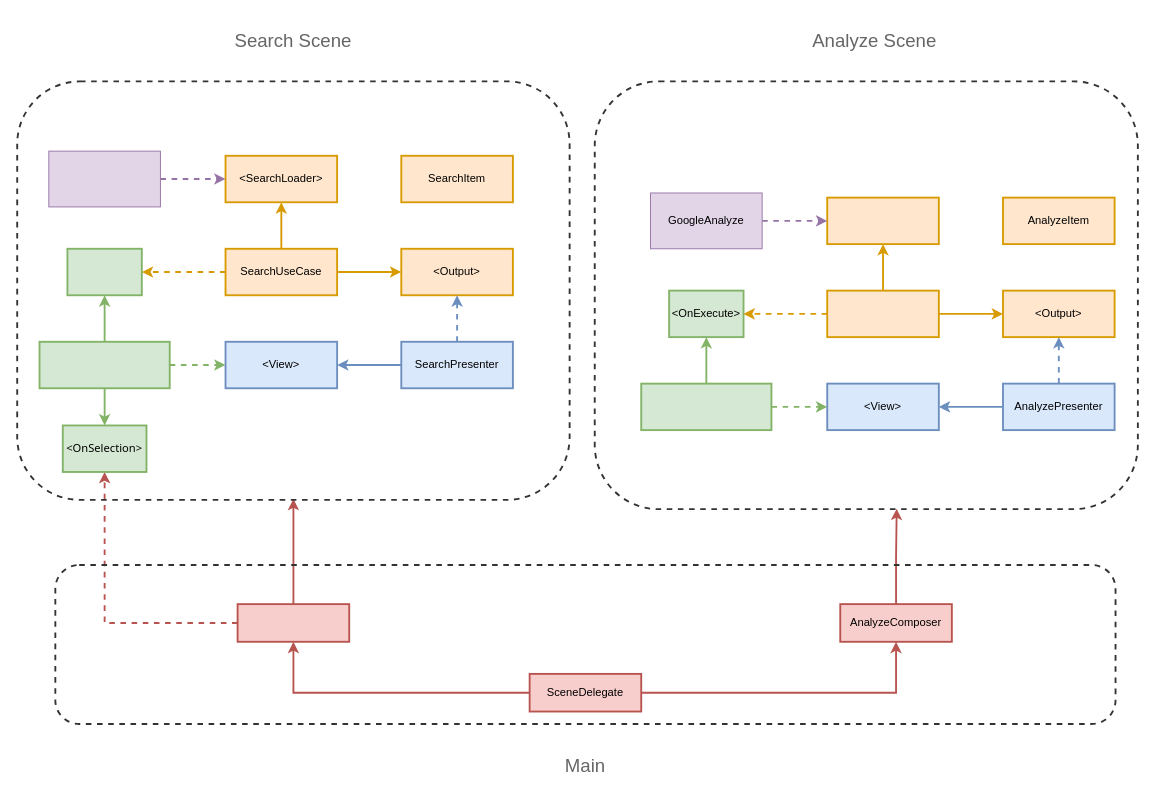
Some shapes in this 1154 by 804 pixel diagram are drawn without their labels. The box of each missing label's shape, as (x1, y1, x2, y2) in pixels:
<AnalyzeLoader>: (826, 196, 939, 245)
<OnTyping>: (66, 247, 142, 296)
AnalyzeUseCase: (826, 289, 939, 338)
AnalyzeViewController: (640, 382, 772, 431)
SearchComposer: (236, 603, 350, 642)
SearchViewController: (38, 340, 170, 389)
TwitterSearch: (48, 150, 160, 207)
